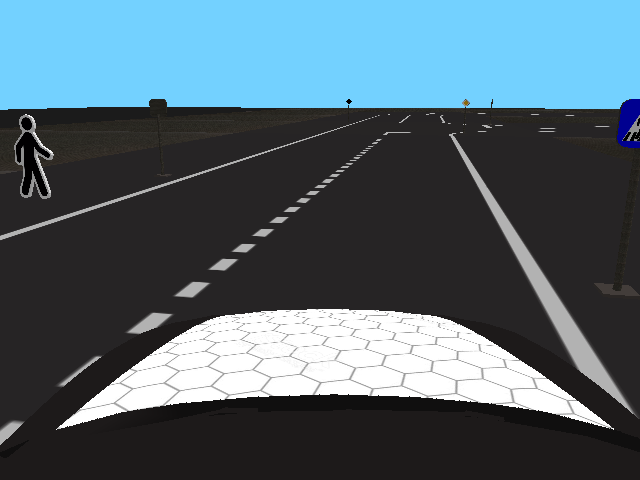pedestrian: (12, 112, 54, 201)
